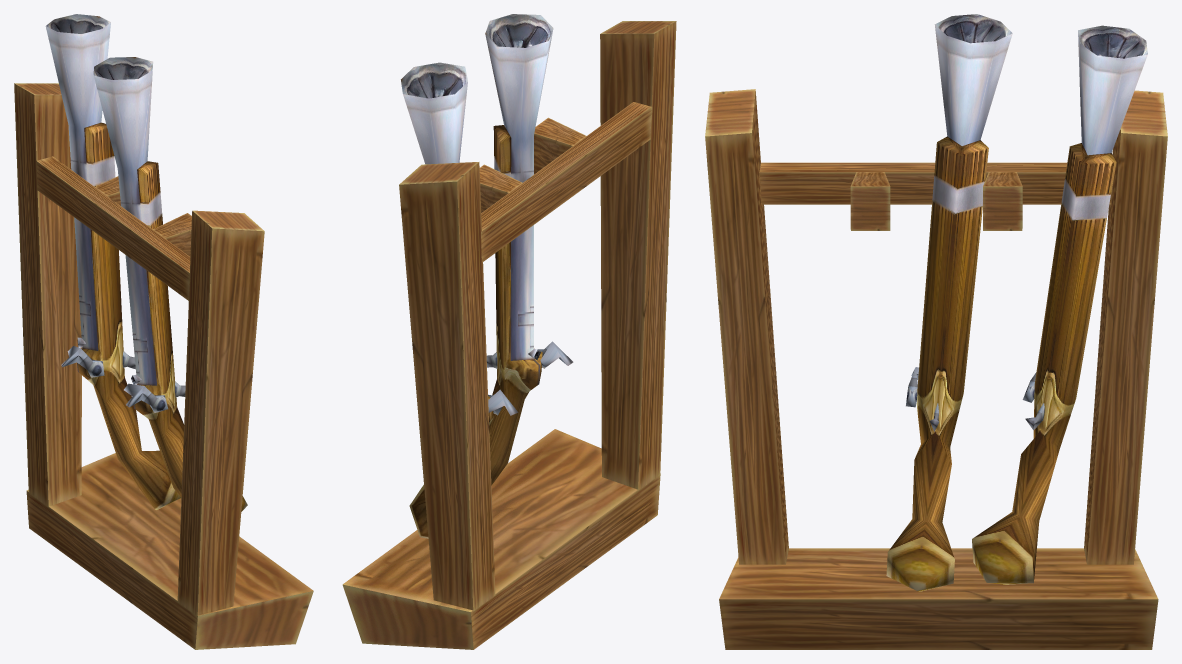
The model's file is gunrack02c.obj.
The picture shows the model from 3 angles, left to right: view 1: azimuth 30°, elevation 25°; view 2: azimuth 150°, elevation 25°; view 3: azimuth 270°, elevation 25°; orthographic projection. The views are drawn at different scales.
Visible parts, largest first — view 1: Geoset0, Geoset1; view 2: Geoset0, Geoset1; view 3: Geoset0, Geoset1.
Boxes of the visible parts, x1,y1,x2,y2 form: Geoset0: [14, 83, 313, 649]; Geoset1: [45, 14, 247, 511]; Geoset0: [342, 21, 676, 649]; Geoset1: [401, 14, 573, 538]; Geoset0: [705, 89, 1167, 649]; Geoset1: [886, 14, 1147, 591].
Size of the model in its own units: 0.4786 by 1.81 by 1.29.
2 materials, 2 textured.
